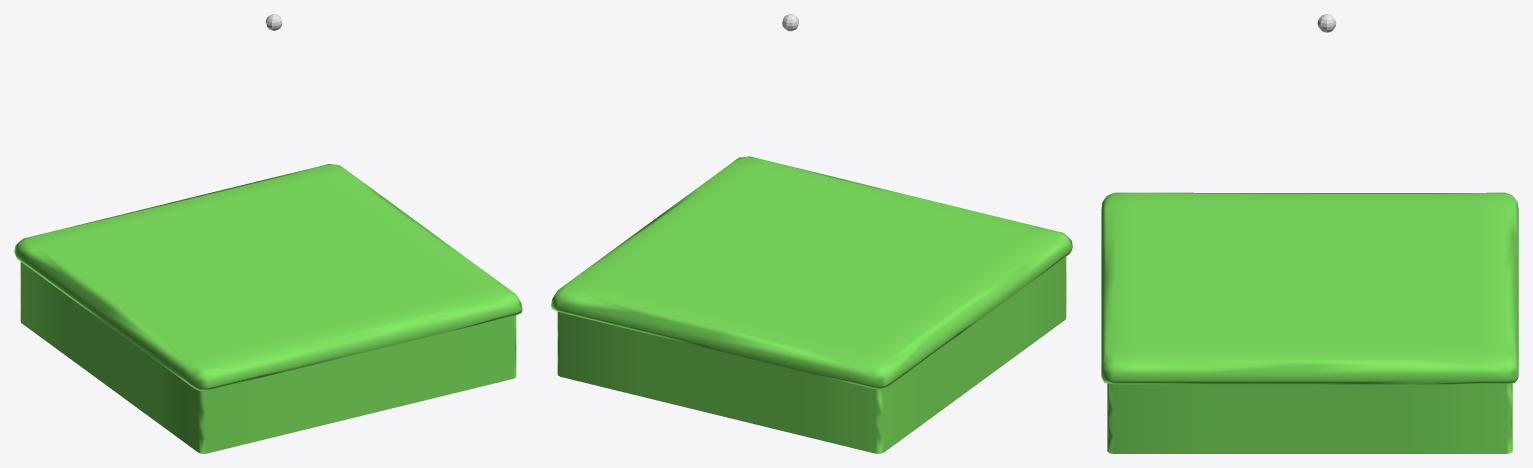
File: level1.glb
The picture shows the model from 3 angles, left to right: view 1: azimuth 30°, elevation 25°; view 2: azimuth 150°, elevation 25°; view 3: azimuth 270°, elevation 25°; orthographic projection. The views are drawn at different scales.
Parts seen in each view (by area): view 1: platform.001; view 2: platform.001; view 3: platform.001.
Part boxes in pixels (bbox=[...]): platform.001: bbox=[14, 164, 522, 453]; platform.001: bbox=[551, 156, 1072, 453]; platform.001: bbox=[1101, 192, 1518, 453].
Size of the model in its own units: 2.47 by 2.36 by 2.47.
